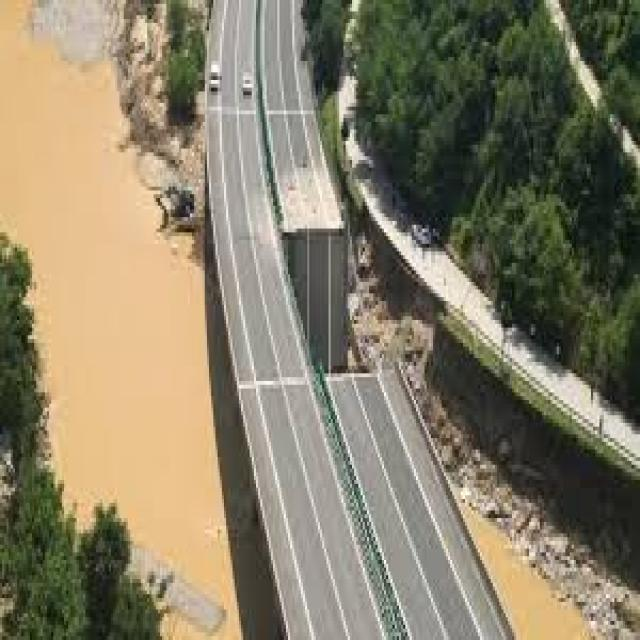bridge collapse: (243, 154, 521, 514)
